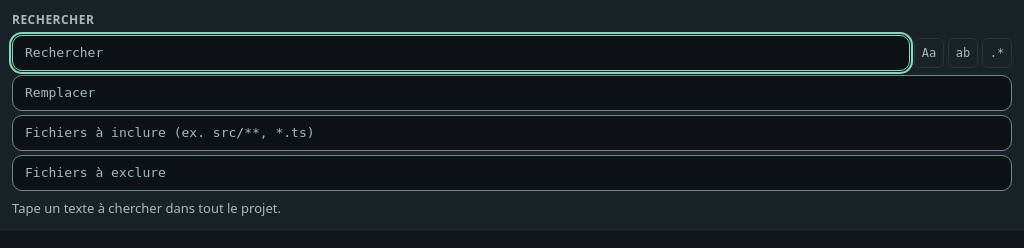
Test: ProjectSearch › says when nothing matches
Type "absent" into the field labelled "Rechercher". click: (461, 53)
box: [12, 35, 910, 71]
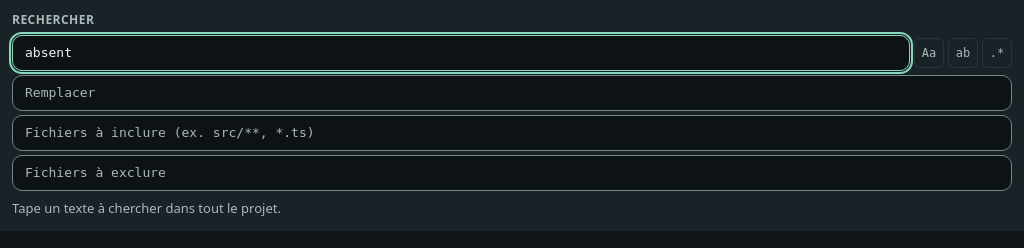
Submit the form named "Rechercher"
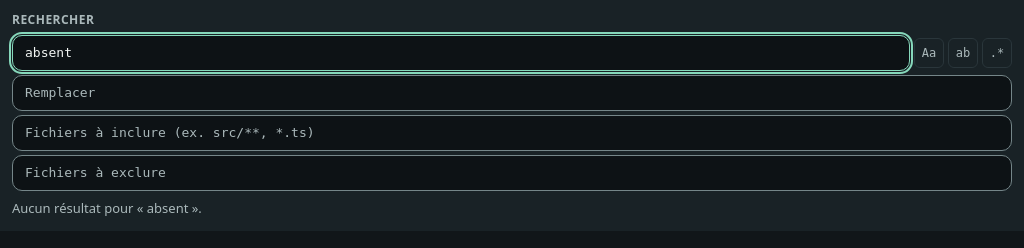
Check: the text "Aucun résultat pour « absent »." is shown, box [12, 199, 202, 217]
